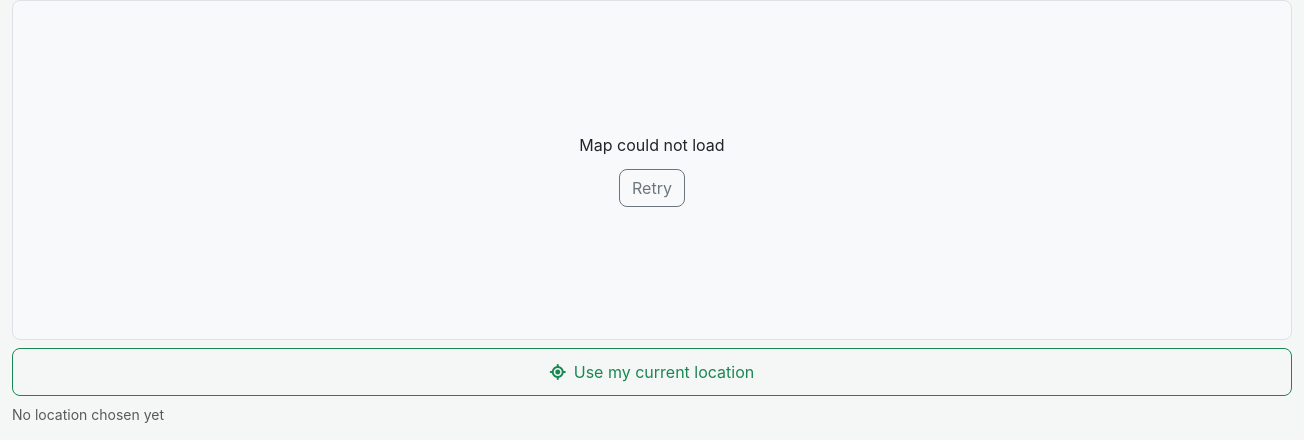
Test: MapPicker › shows Map could not load with Retry when the CDN fails
Expected: the text "Map could not load" is shown, [579,133,725,157]
Click the button "Retry". click: click(652, 188)
box: [619,169,685,207]
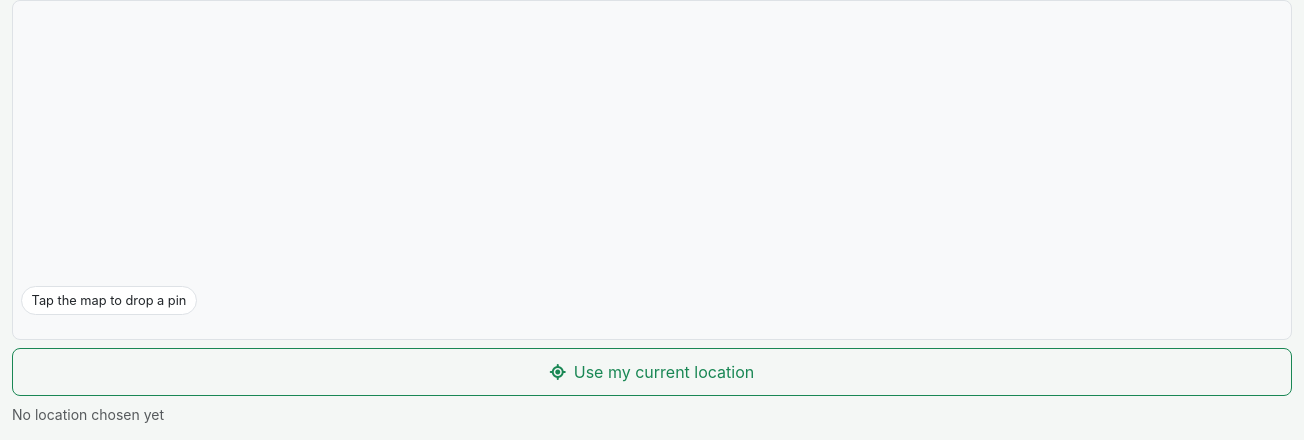
Result: the text "Map could not load" is gone
